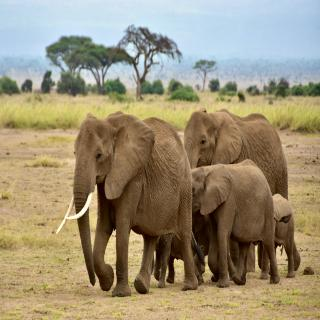Elephant: (53, 107, 199, 296), (182, 105, 298, 269), (184, 161, 284, 294)
